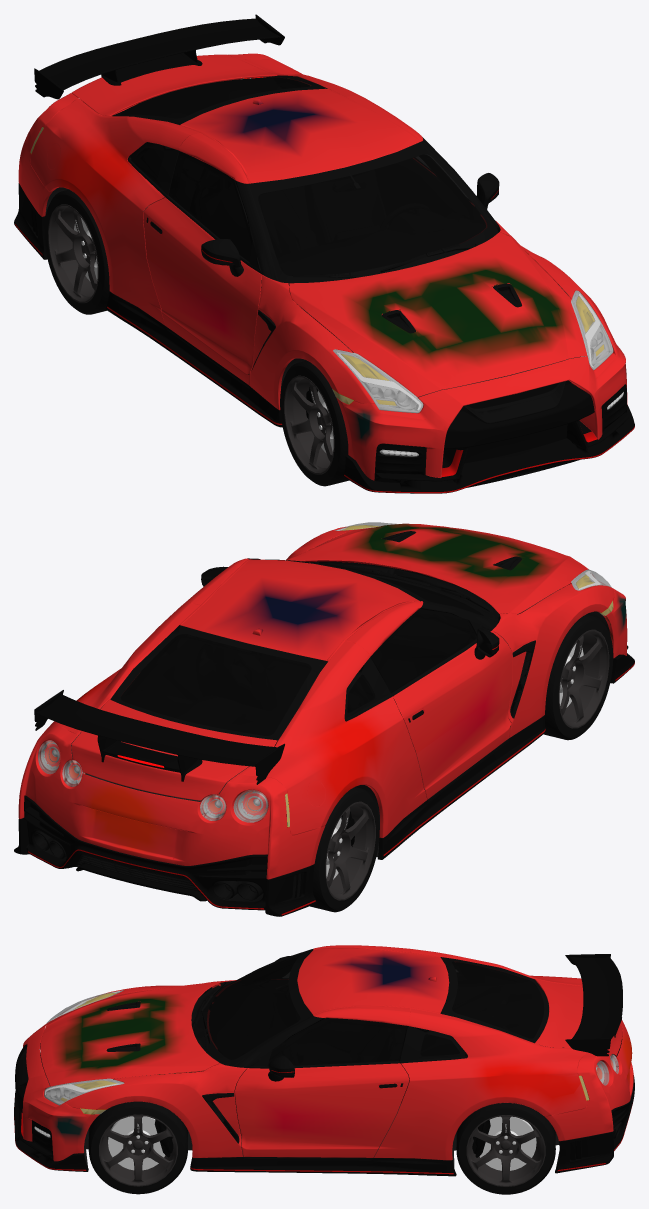
File: gtr.glb
3 views of the same model, one above another, from view 1: azimuth 30°, elevation 25°; view 2: azimuth 150°, elevation 25°; view 3: azimuth 270°, elevation 25° (orthographic). The views are drawn at different scales.
Visible parts, largest first — view 1: car_Body_Material.003, m_Material.004, m_intor, m_material_16, m_Material.007, wheel0, wheel1, m_Material.006, m_shiny, m_Material.010, m_Material.008, m_YELLOW (+1 smaller); view 2: car_Body_Material.003, m_material_16, m_Material.004, m_intor, m_Material.007, wheel0, wheel1, m_Material.006, m_shiny, m_Material.008, m_Material.005, car_Optics_Material.012; view 3: car_Body_Material.003, m_Material.004, m_intor, m_material_16, m_Material.007, wheel2, wheel3, m_Material.006, m_Material.008, m_shiny, m_YELLOW, m_Material.005.
Boxes of the visible parts, x1,y1,x2,y2 form: car_Body_Material.003: (18, 53, 627, 480); m_Material.004: (121, 77, 487, 275); m_intor: (121, 78, 485, 336); m_material_16: (14, 14, 634, 493); m_Material.007: (45, 75, 579, 487); wheel0: (280, 360, 349, 486); wheel1: (44, 189, 109, 314); m_Material.006: (30, 127, 623, 456); m_shiny: (241, 77, 623, 456); m_Material.010: (387, 286, 571, 463); m_Material.008: (15, 190, 634, 493); m_YELLOW: (30, 127, 603, 405); car_Body_Material.003: (18, 523, 627, 879); m_material_16: (14, 583, 634, 916); m_Material.004: (120, 561, 486, 735); m_intor: (121, 577, 483, 751); m_Material.007: (33, 531, 535, 901); wheel0: (543, 614, 613, 740); wheel1: (310, 787, 379, 912); m_Material.006: (38, 522, 613, 826); m_shiny: (41, 527, 606, 818); m_Material.008: (28, 645, 634, 915); m_Material.005: (71, 538, 610, 867); car_Optics_Material.012: (45, 744, 265, 814); car_Body_Material.003: (22, 945, 633, 1161); m_Material.004: (206, 955, 544, 1066); m_intor: (209, 957, 543, 1135); m_material_16: (14, 954, 634, 1176); m_Material.007: (18, 949, 622, 1159); wheel2: (88, 1101, 187, 1194); wheel3: (456, 1103, 555, 1194); m_Material.006: (34, 990, 618, 1137); m_Material.008: (14, 1070, 632, 1174); m_shiny: (34, 990, 615, 1137); m_YELLOW: (60, 993, 588, 1114); m_Material.005: (46, 1046, 586, 1167).
Size of the model in its own units: 2.16 by 1.53 by 5.08.
